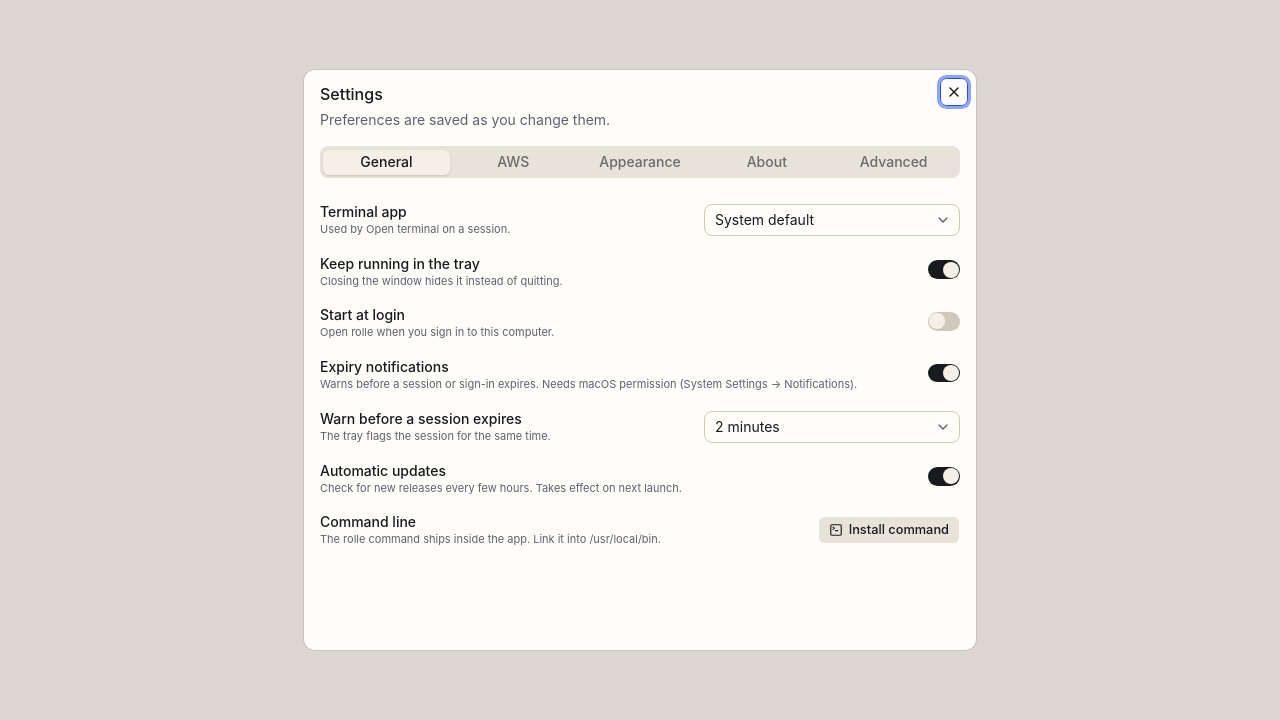
Test: SettingsDialog › says when the app is current and when updates are disabled
Expected: the tab "General" is shown, [323,150,450,174]
Click the tab "About" at (767, 162), box [703,150,830,174]
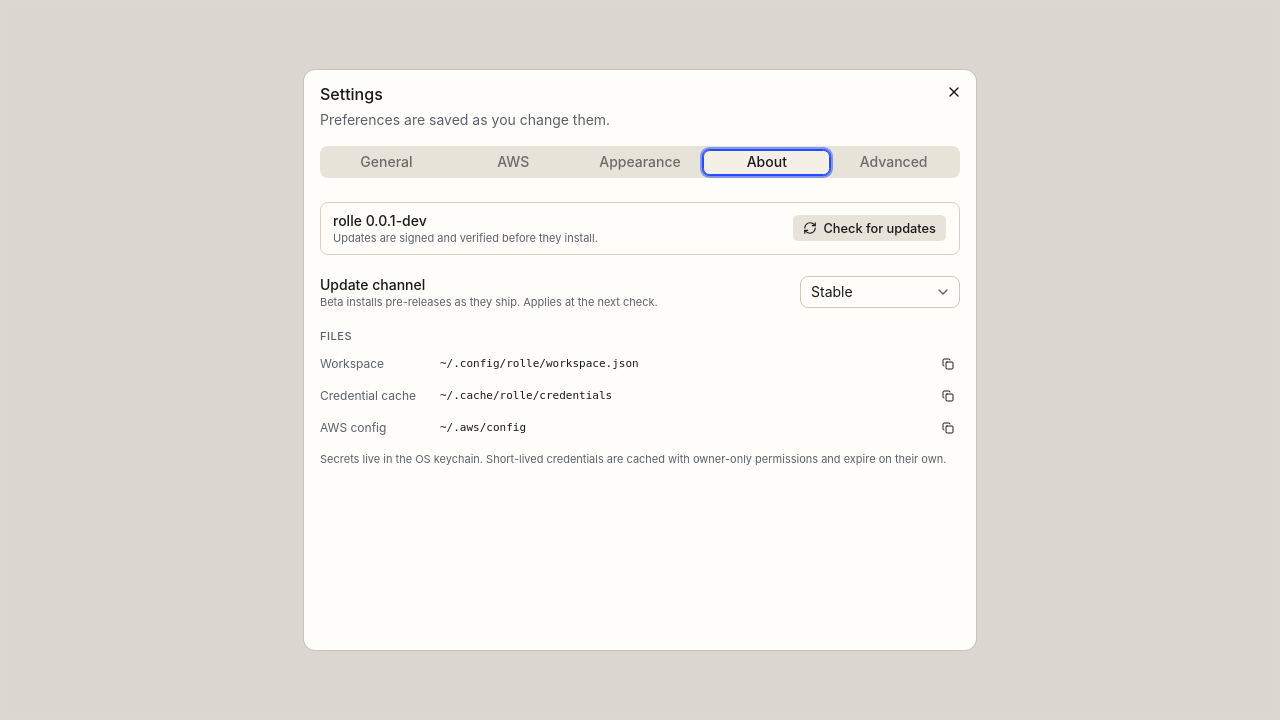
Click the button "Check for updates" at (870, 228), box [792,214,947,242]
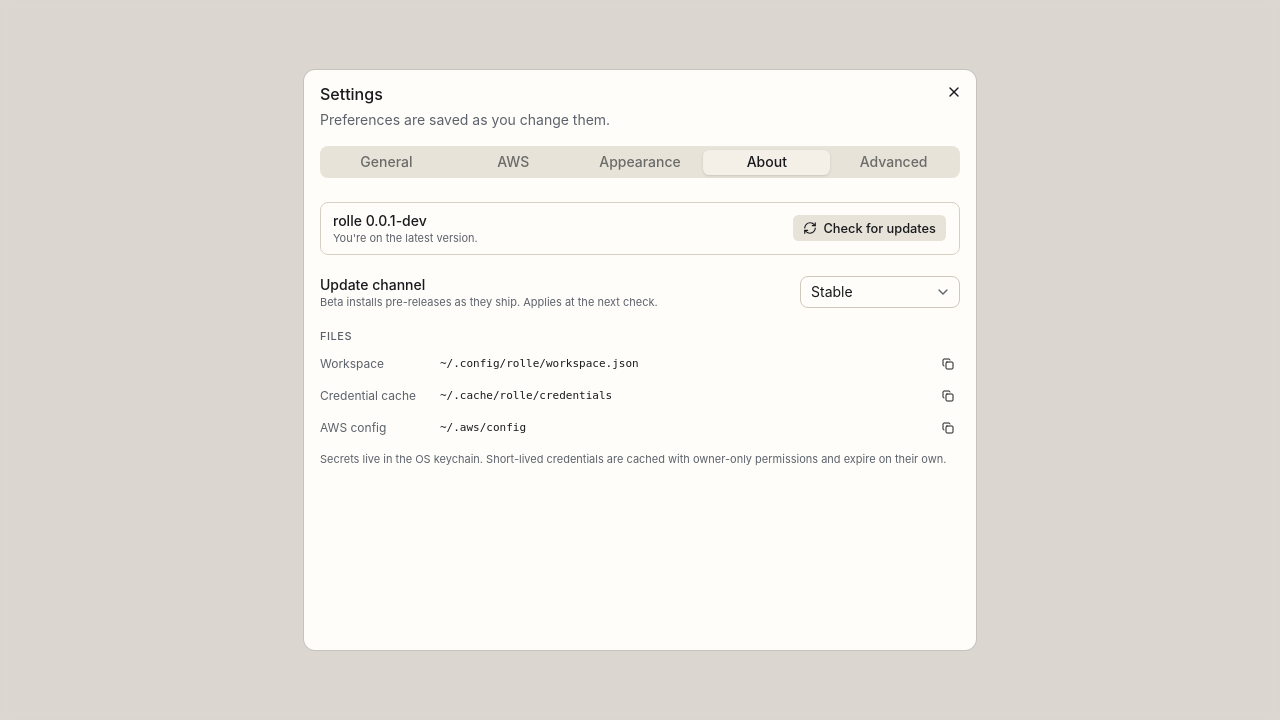
Expected: the text "You're on the latest version." is shown, [333,231,478,246]
Click the button "Check for updates" at (870, 228), box [792,214,947,242]
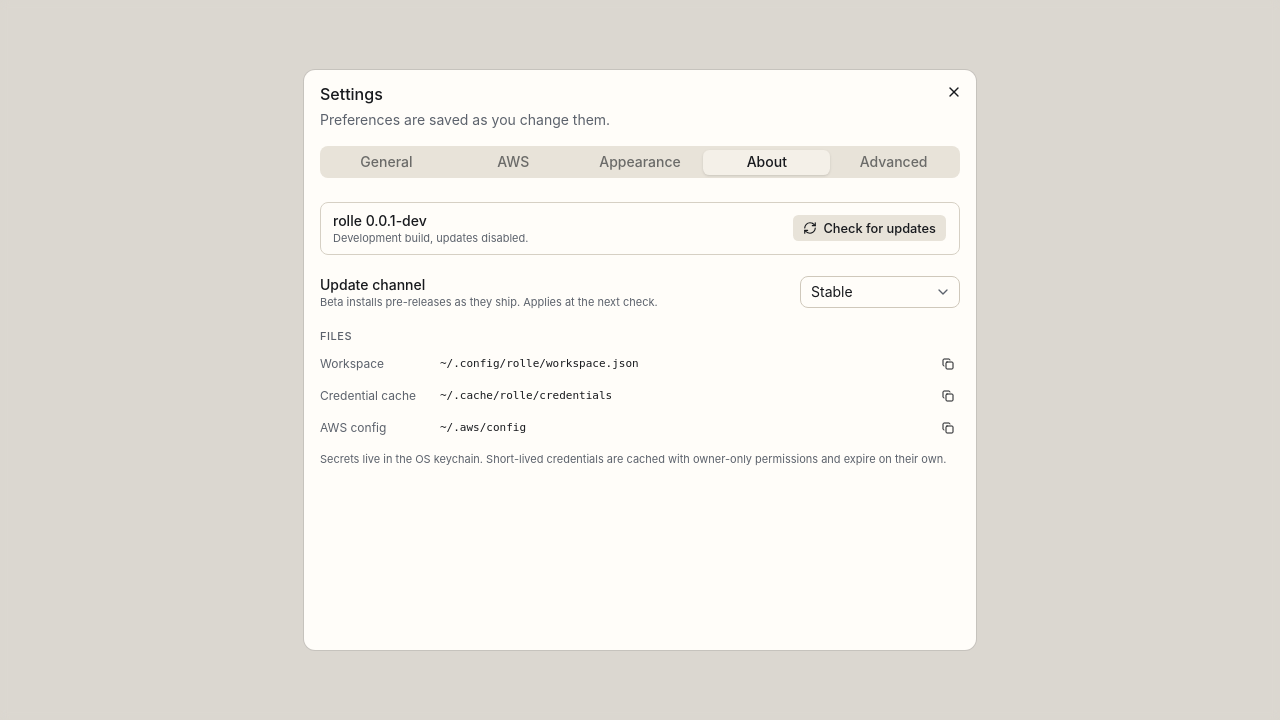
Expected: the text "Development build, updates disabled." is shown, [333,231,528,246]
Click the button "Check for updates" at (870, 228), box [792,214,947,242]
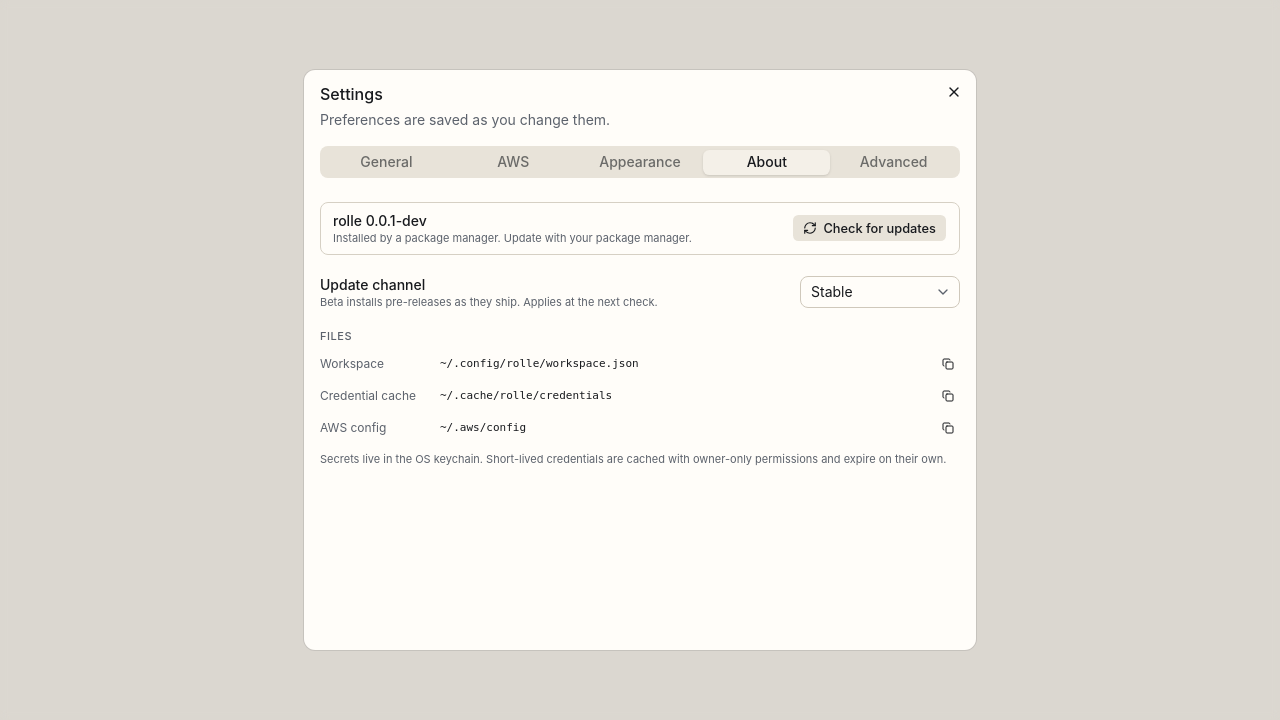
Expected: the text "Installed by a package manager. Update with your package manager." is shown, [333,231,692,246]
Click the button "Check for updates" at (870, 228), box [792,214,947,242]
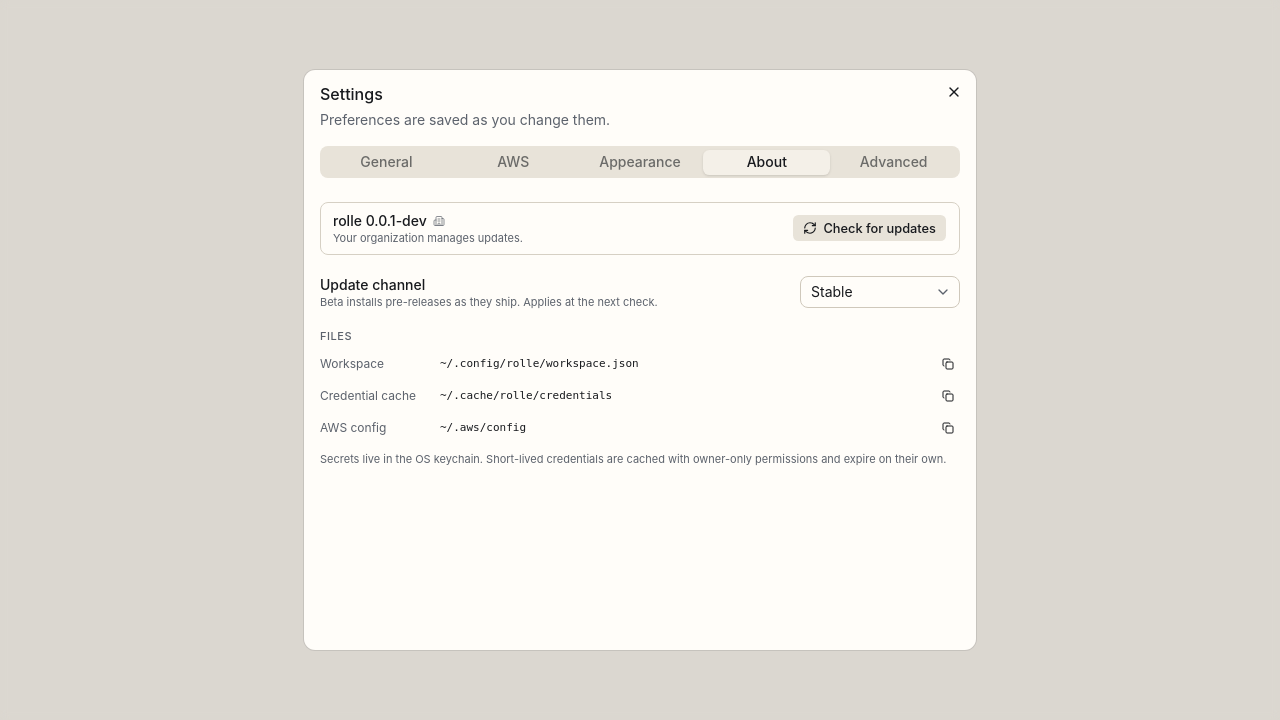
Expected: the text "Your organization manages updates." is shown, [333,231,523,246]
